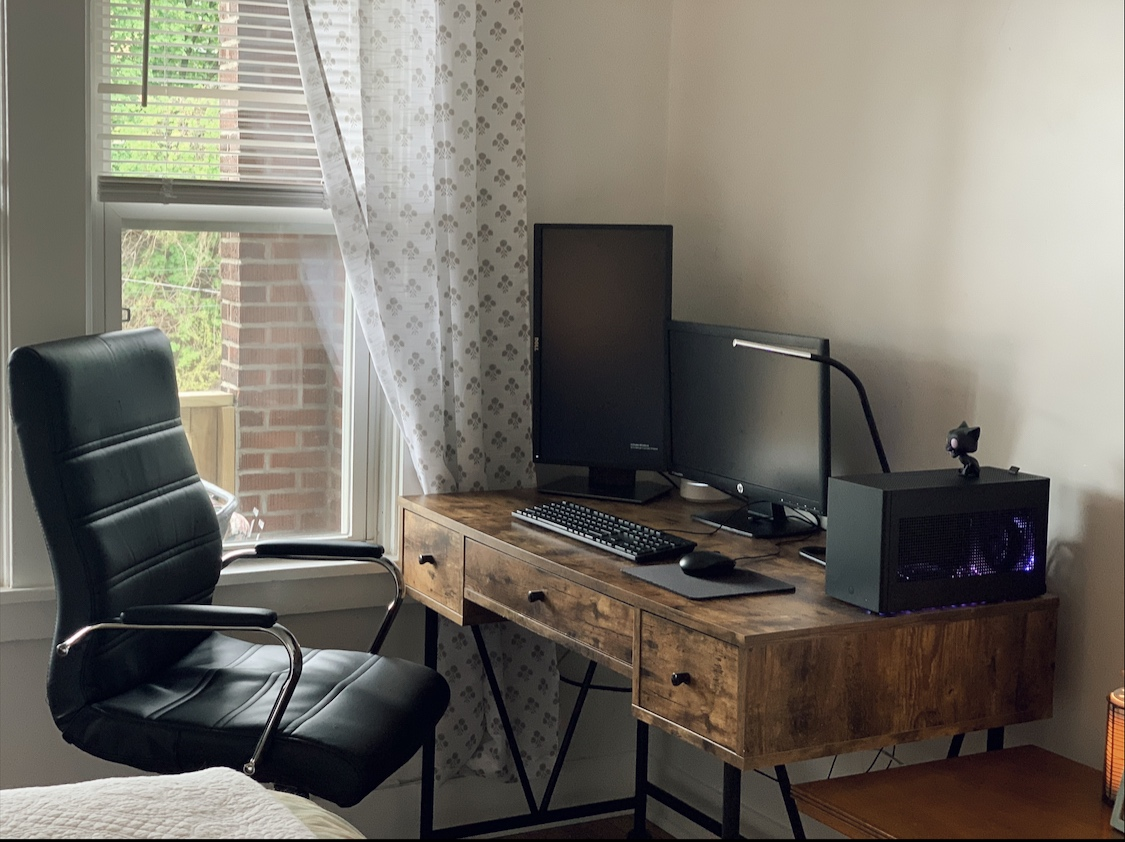Chair (Generic): (5, 324, 451, 807)
Decoration (Generic): (945, 420, 984, 475)
Desk (Generic): (399, 480, 1060, 839)
Desktop (Generic): (827, 467, 1046, 619)
Keyboard (Generic): (511, 498, 698, 563)
Lamp (Desk): (731, 336, 893, 565)
Monitor (Landscape): (665, 319, 830, 515)
Monitor (Portrait): (532, 220, 673, 468)
Mouse (Generic): (678, 548, 734, 580)
Mousepad (Generic): (620, 559, 796, 601)
